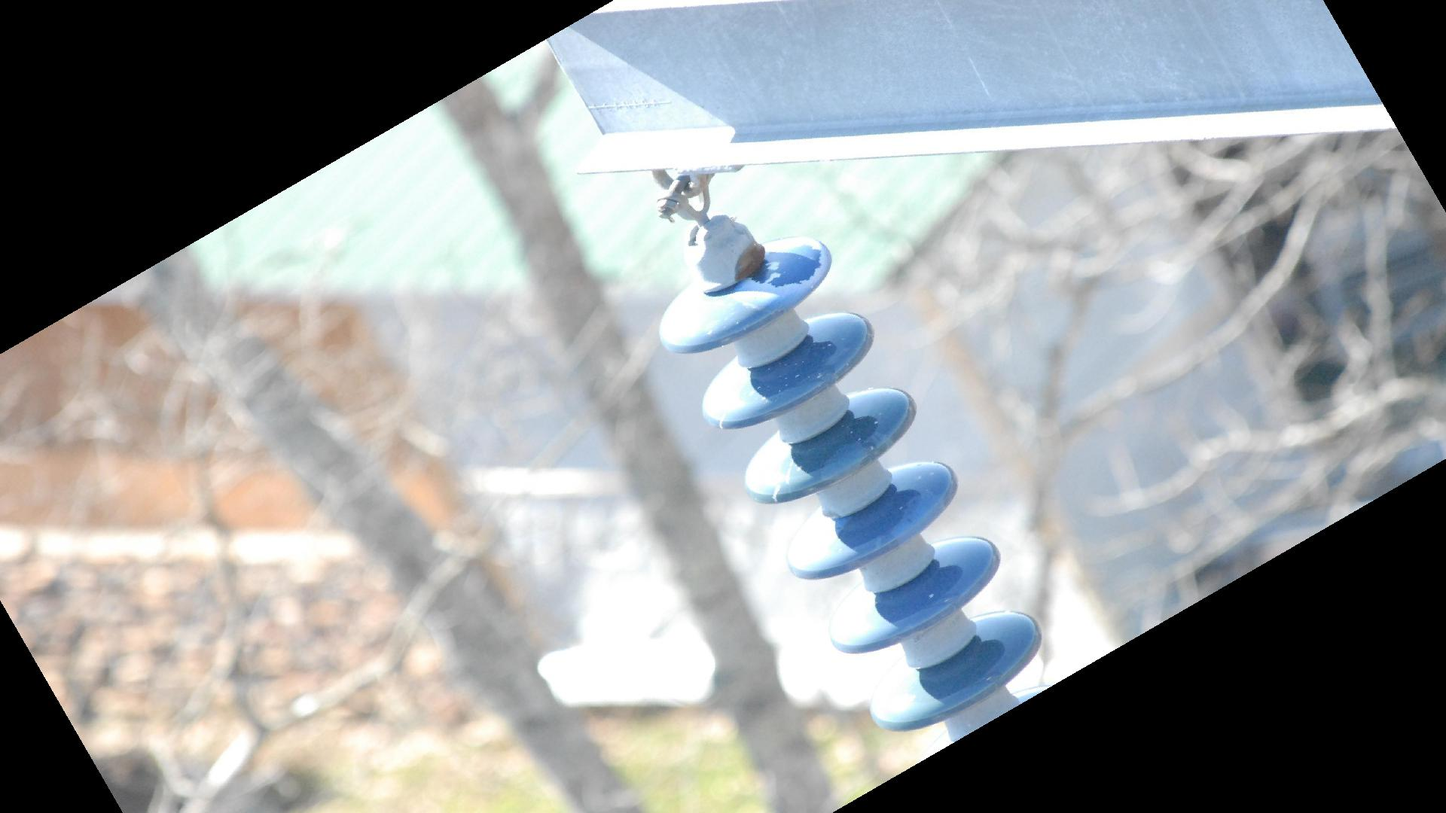insulator: (651, 230, 1051, 738)
insulator_flashover: (746, 241, 822, 290)
